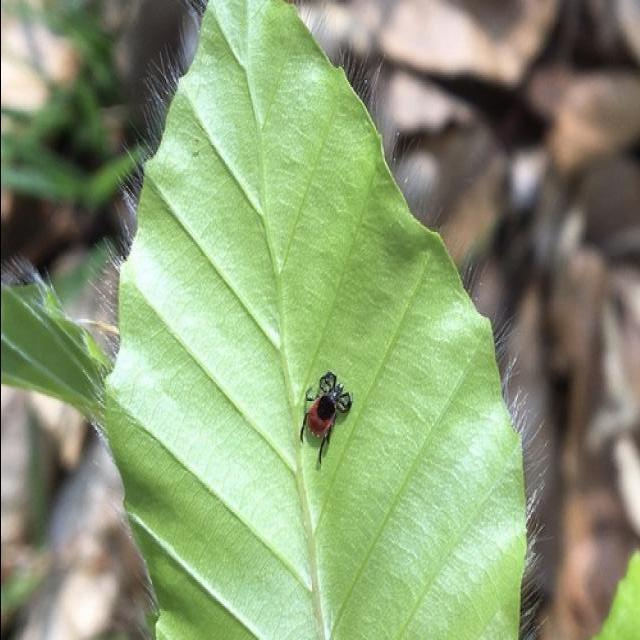Ixodes Ricinus-F: (298, 369, 352, 468)
